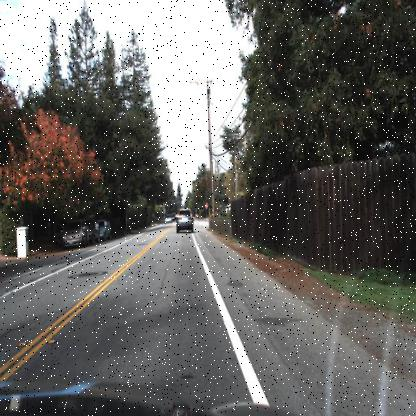car: (59, 217, 88, 250), (174, 206, 197, 236), (84, 219, 102, 247), (97, 215, 114, 243), (162, 213, 173, 229)
